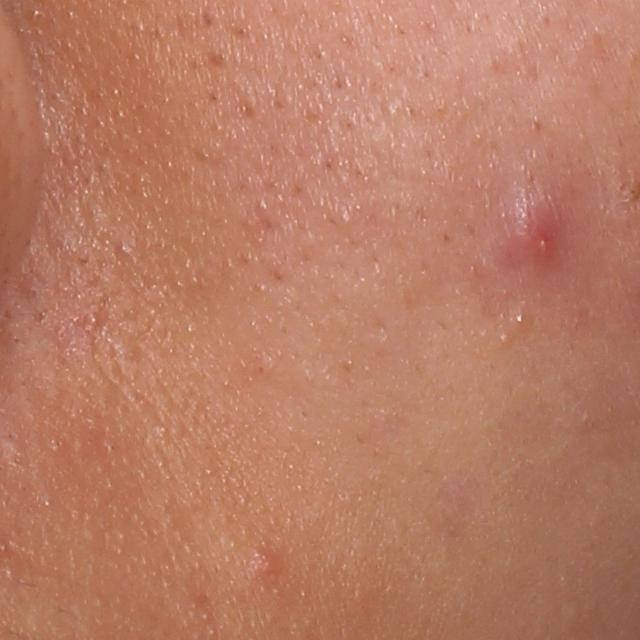comedo: (495, 330, 513, 348)
papule: (498, 175, 582, 279), (245, 545, 283, 582)
